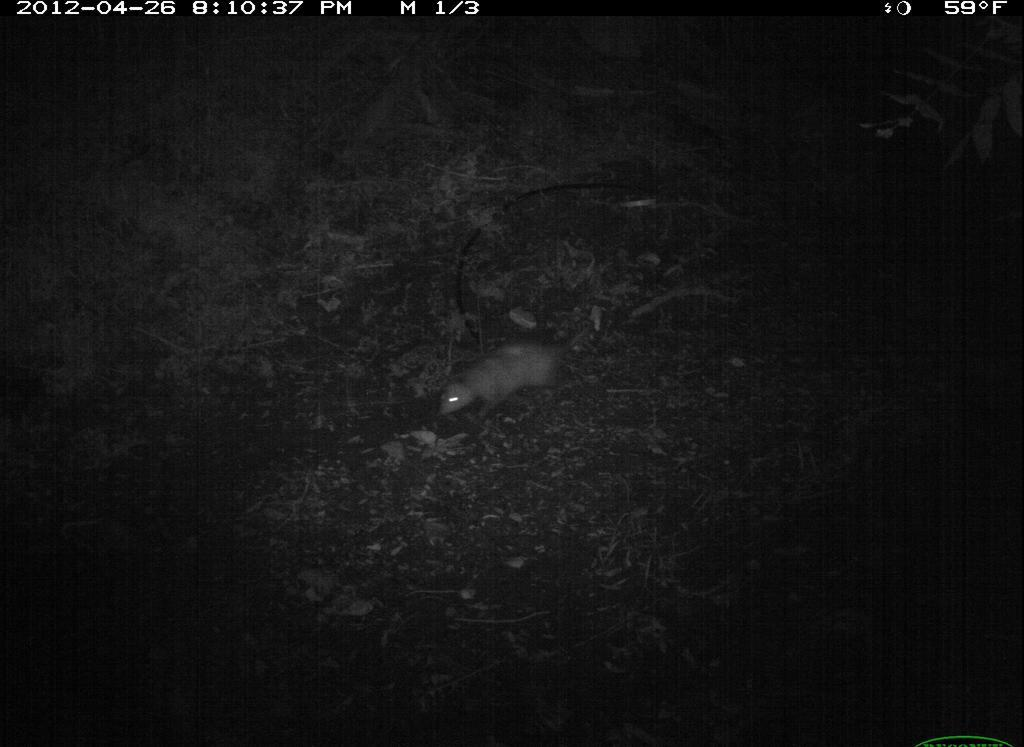opossum: (424, 303, 607, 431)
